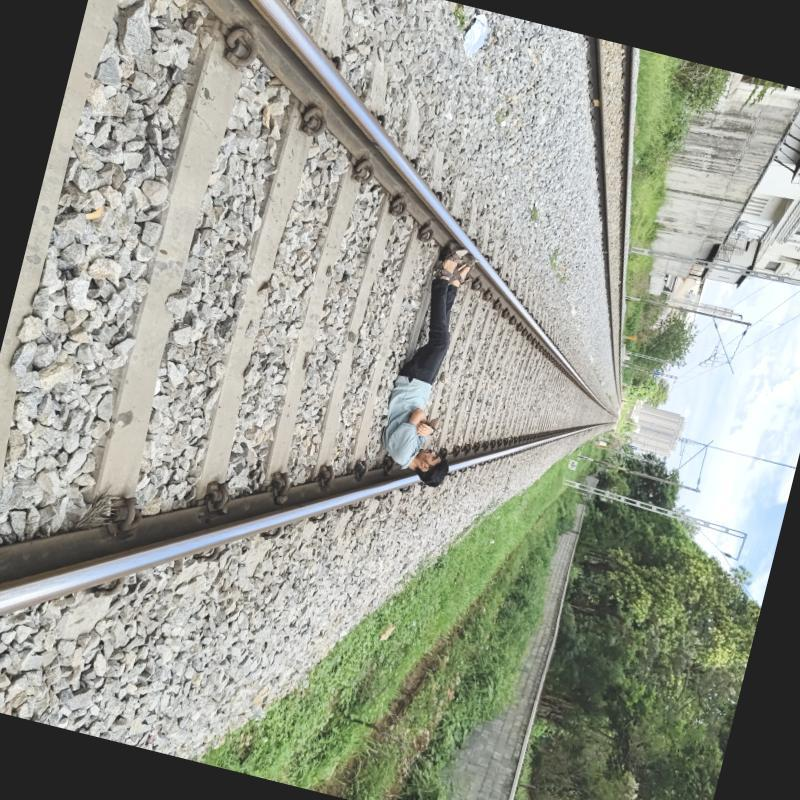sleeping: (366, 224, 510, 491)
